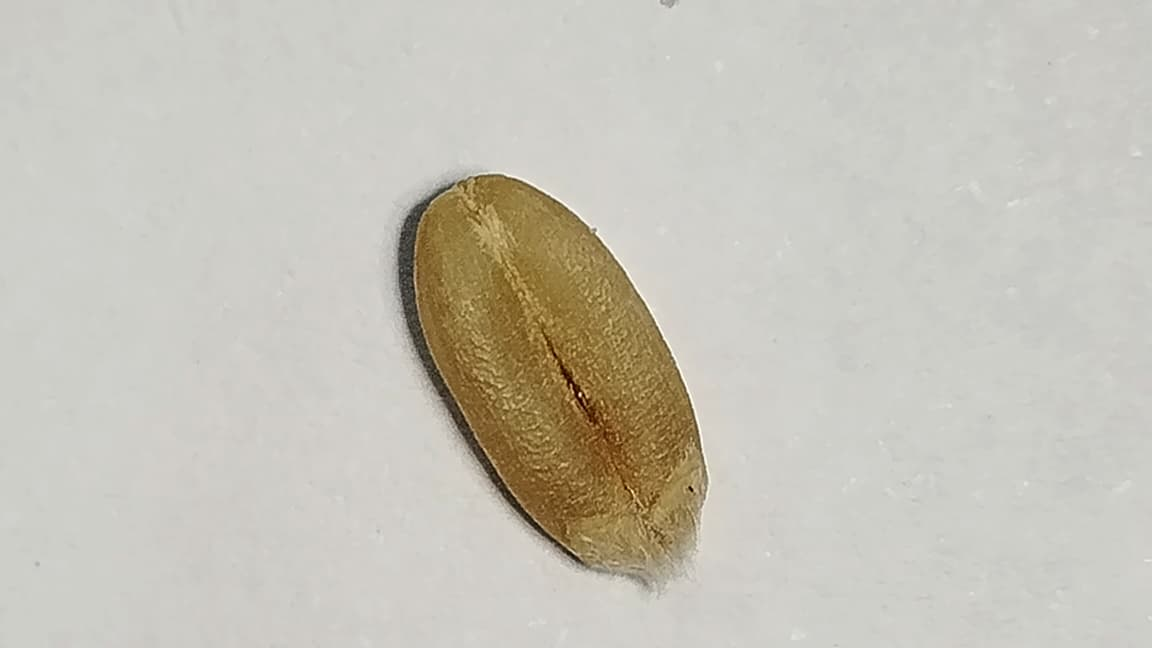healthy: (415, 175, 707, 573)
